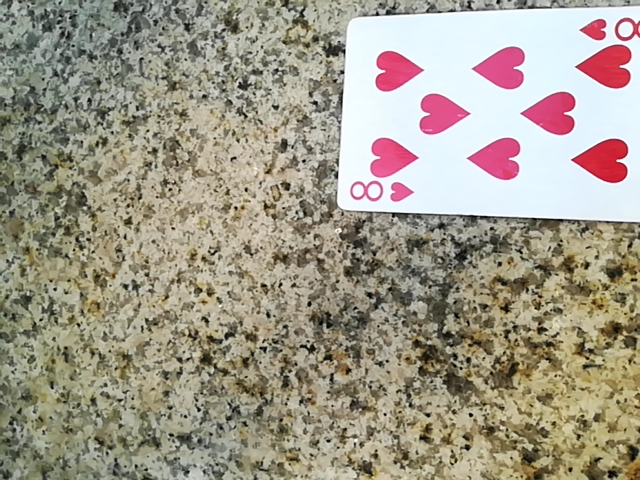hx 8: (340, 5, 638, 224)
